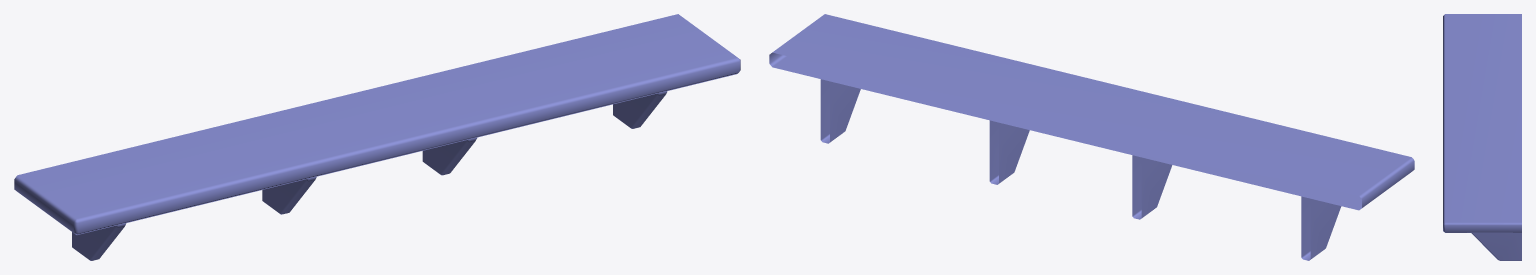
File: HalloweenRoomA_ShelfB.fbx
3 renders of one model, left to right at view 1: azimuth 30°, elevation 25°; view 2: azimuth 150°, elevation 25°; view 3: azimuth 270°, elevation 25°, orthographic. The views are drawn at different scales.
Parts seen in each view (by area): view 1: HalloweenRoomA_ShelfB; view 2: HalloweenRoomA_ShelfB; view 3: HalloweenRoomA_ShelfB.
Boxes of the visible parts, x1,y1,x2,y2 form: HalloweenRoomA_ShelfB: (14, 14, 740, 260); HalloweenRoomA_ShelfB: (769, 14, 1414, 260); HalloweenRoomA_ShelfB: (1443, 14, 1521, 260).
Bounding box in the file's own units: 189 × 23.63 × 30.
